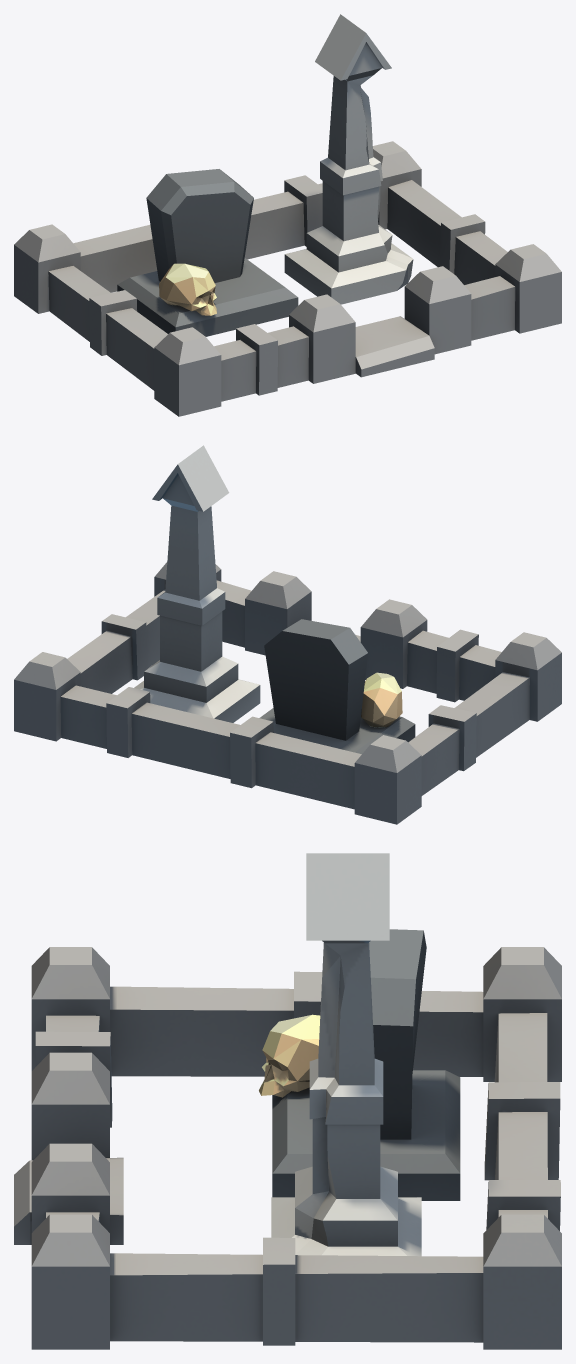
The model's file is cemetery.glb.
3 renders of one model, top to bottom at view 1: azimuth 30°, elevation 25°; view 2: azimuth 150°, elevation 25°; view 3: azimuth 270°, elevation 25°, orthographic. The views are drawn at different scales.
Visible parts, largest first — view 1: cemetery; view 2: cemetery; view 3: cemetery.
Part boxes in pixels (x1=…): cemetery: x1=14, y1=14, x2=561, y2=416; cemetery: x1=14, y1=445, x2=561, y2=824; cemetery: x1=14, y1=853, x2=561, y2=1349.
Bounding box in the file's own units: 2.78 × 1.77 × 2.14.
1 material, 1 textured.
